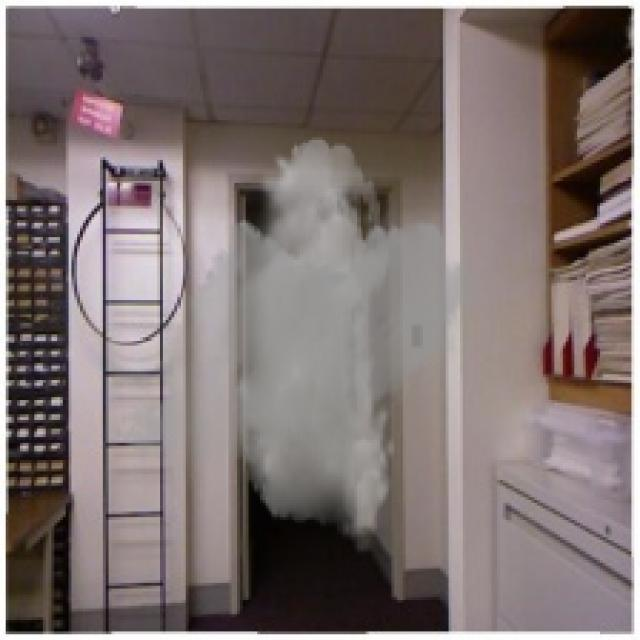Smoke: (112, 137, 494, 540)
